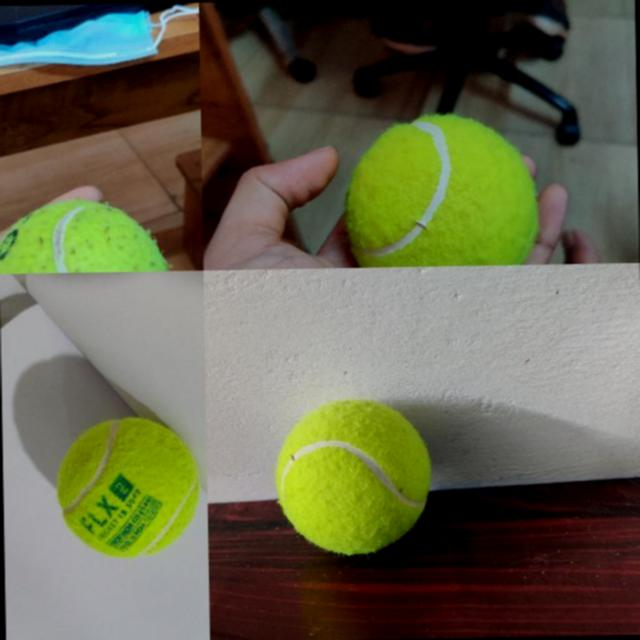tennis-ball: (343, 114, 538, 266), (273, 397, 433, 556), (54, 414, 203, 559), (0, 197, 173, 272)
